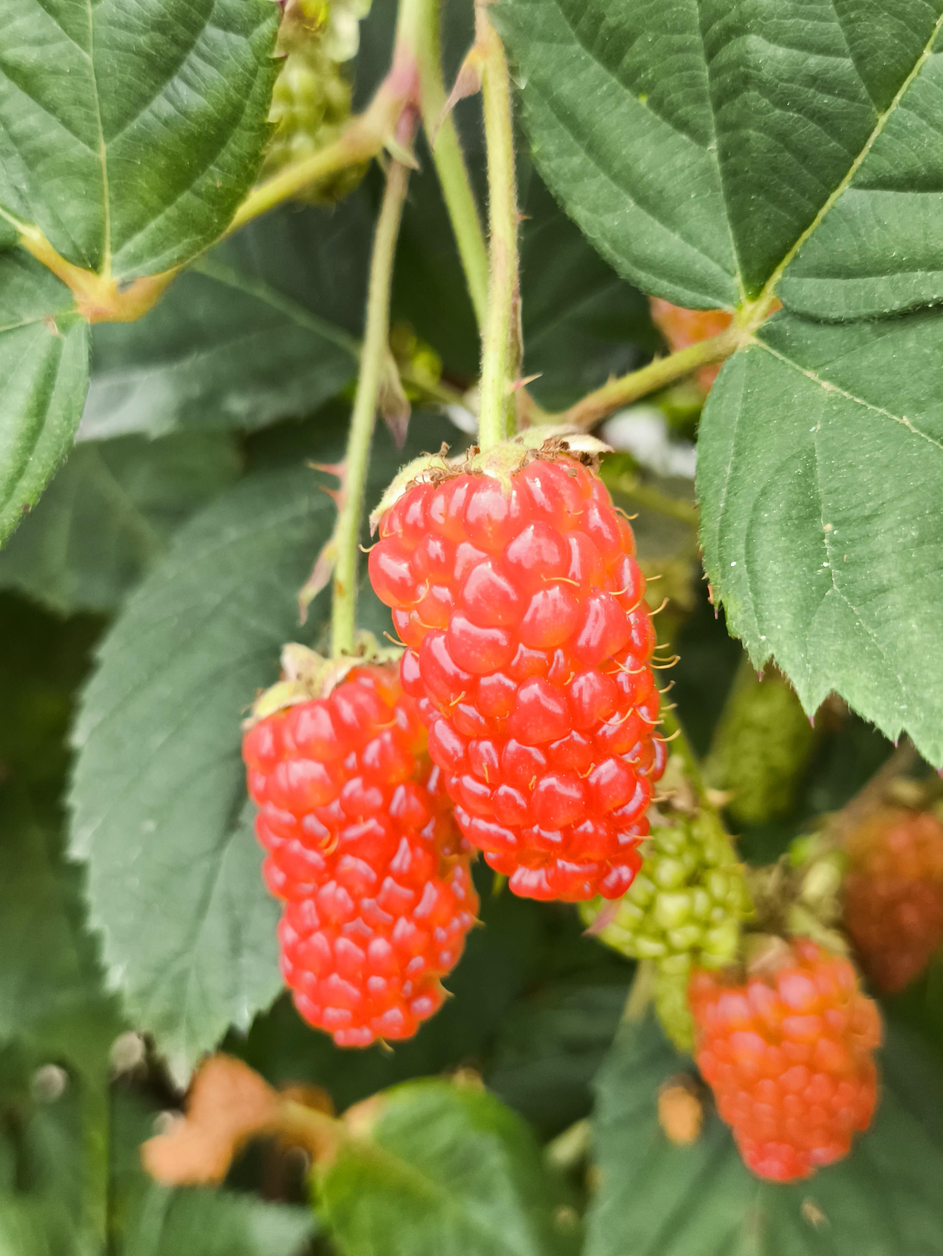naranja: (369, 450, 665, 901), (244, 665, 478, 1045), (689, 938, 881, 1182), (844, 808, 943, 992)
